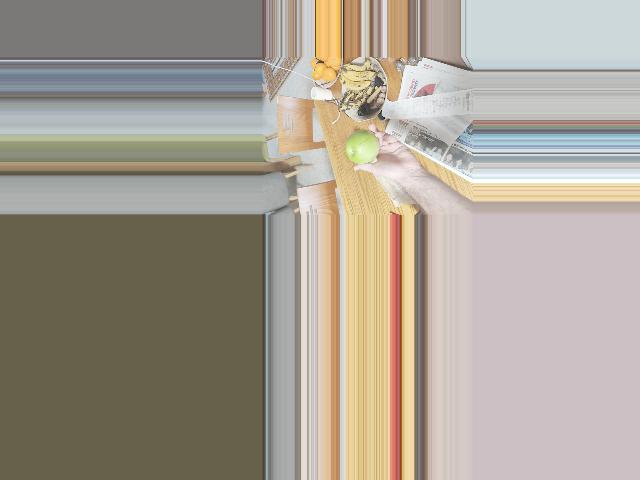apple: (343, 130, 378, 163)
